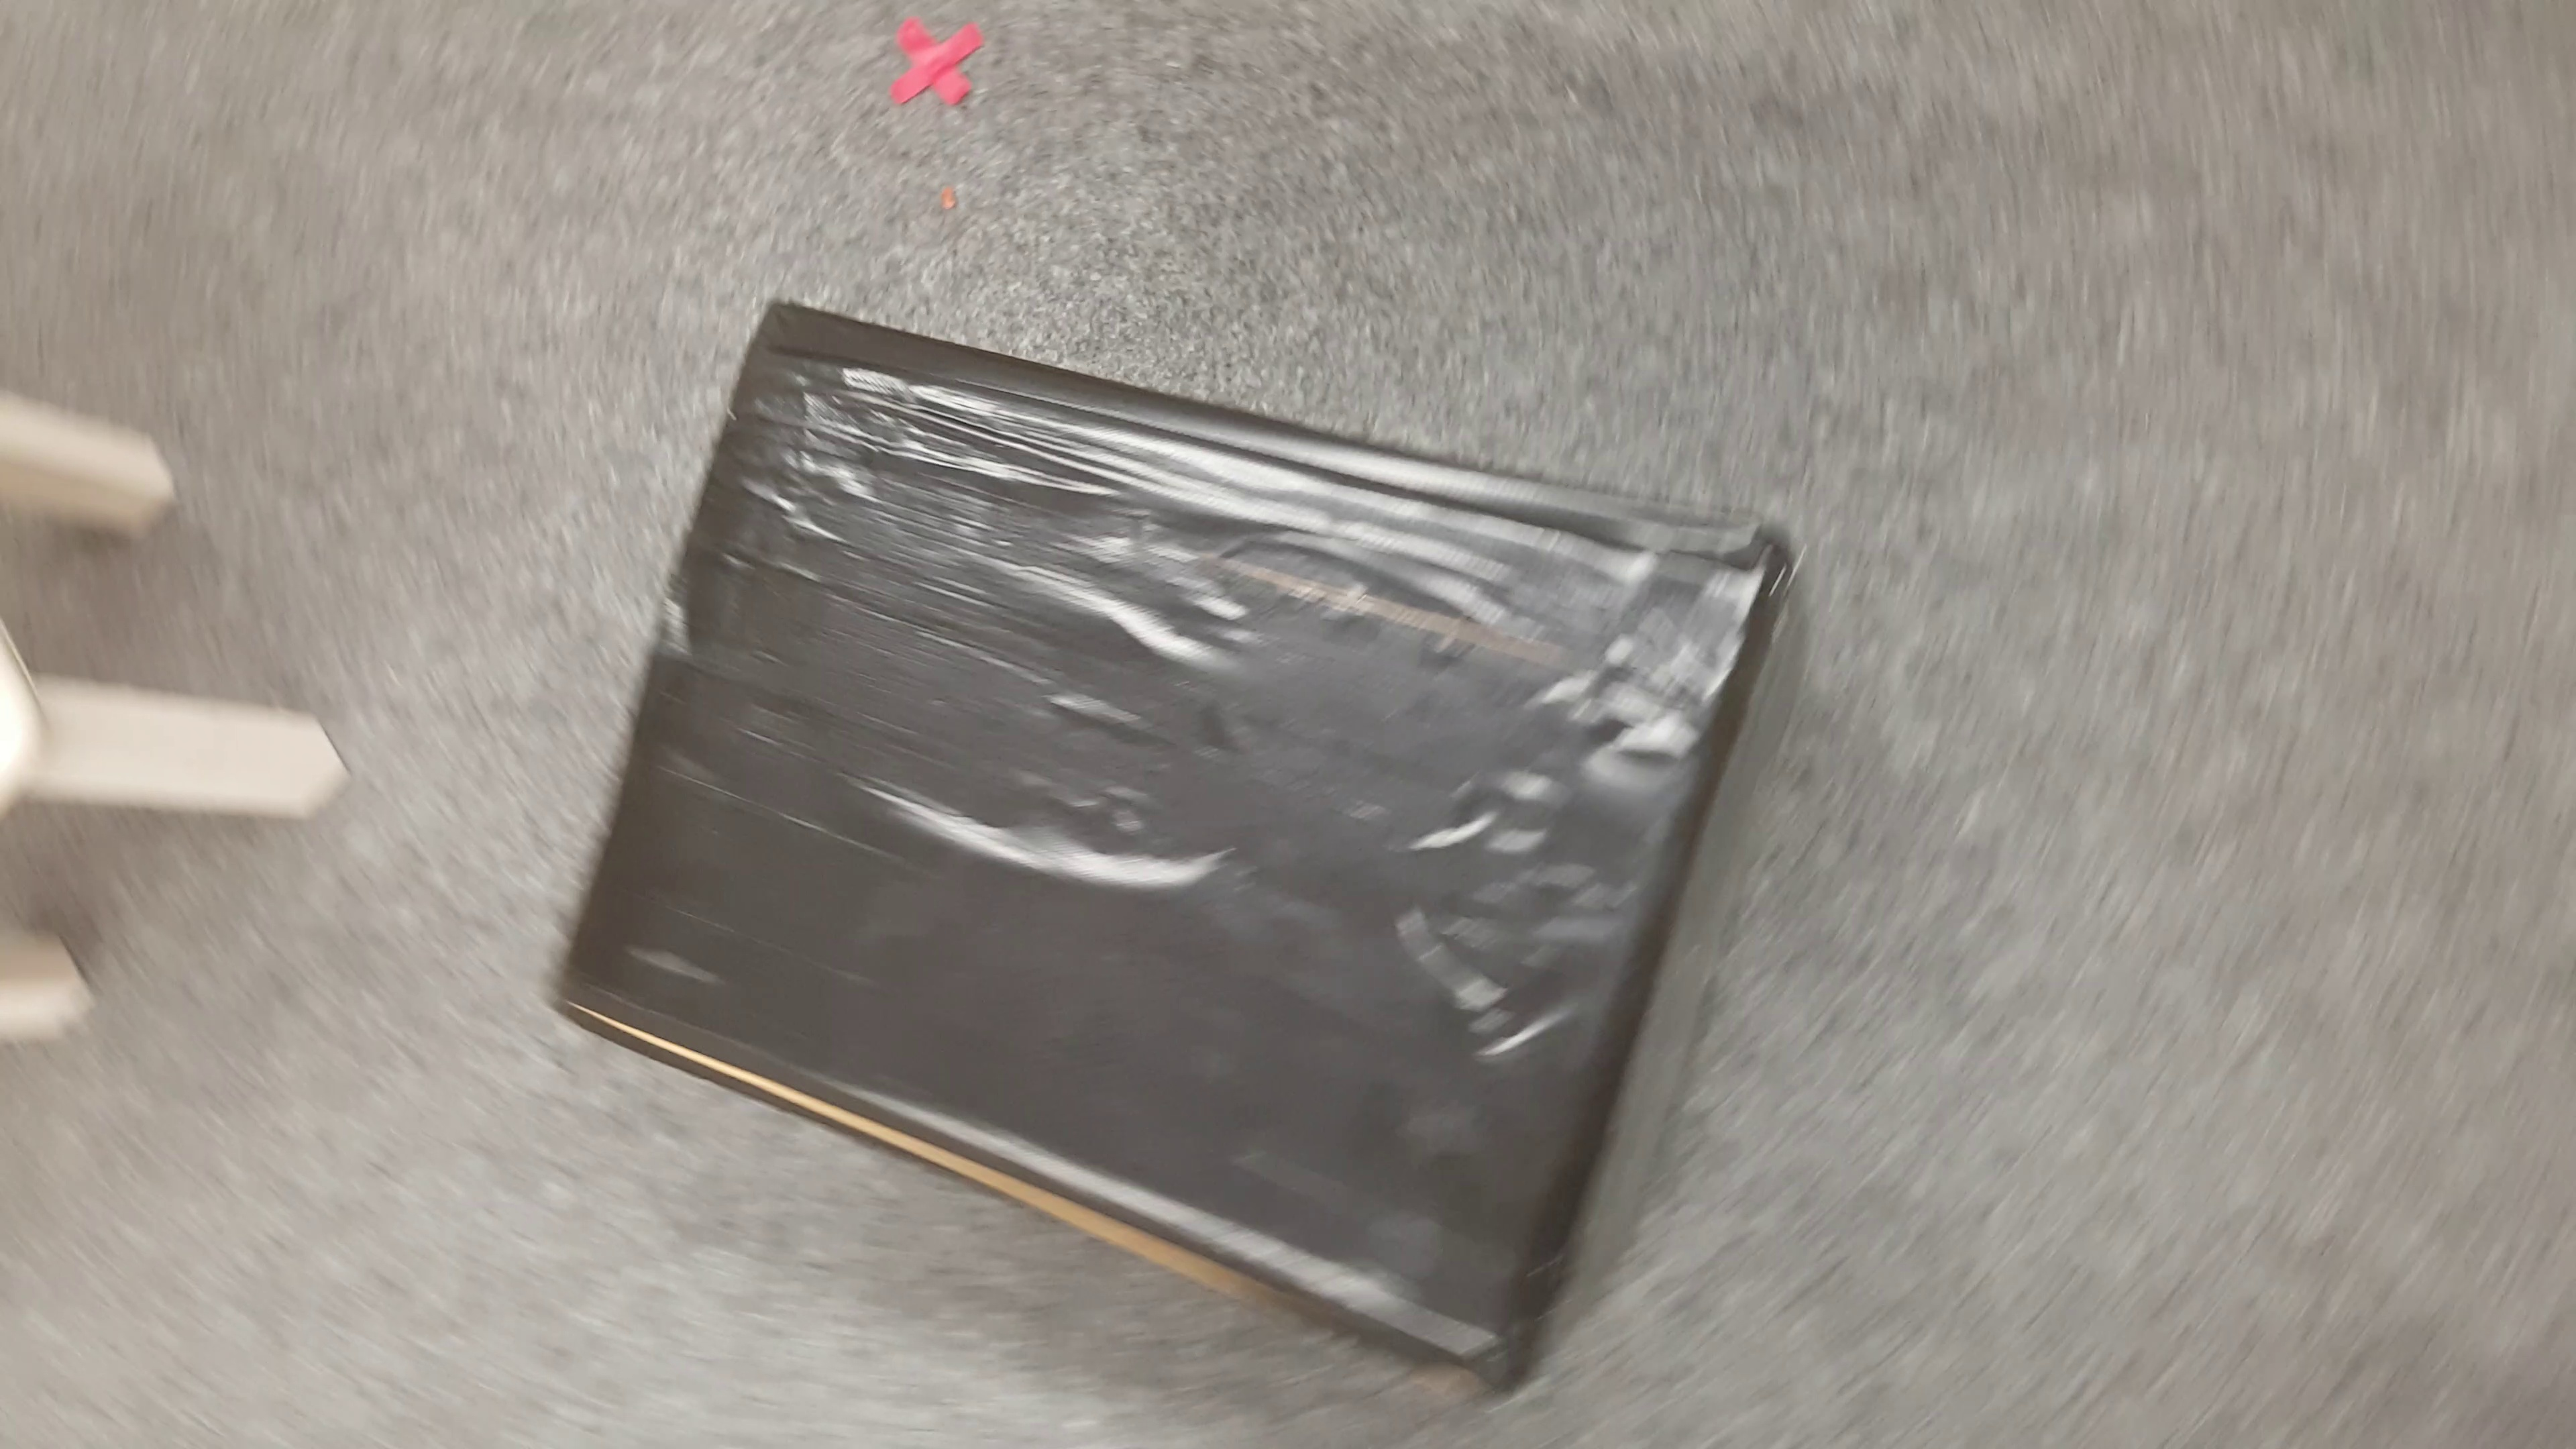push: (554, 295, 1808, 1408)
